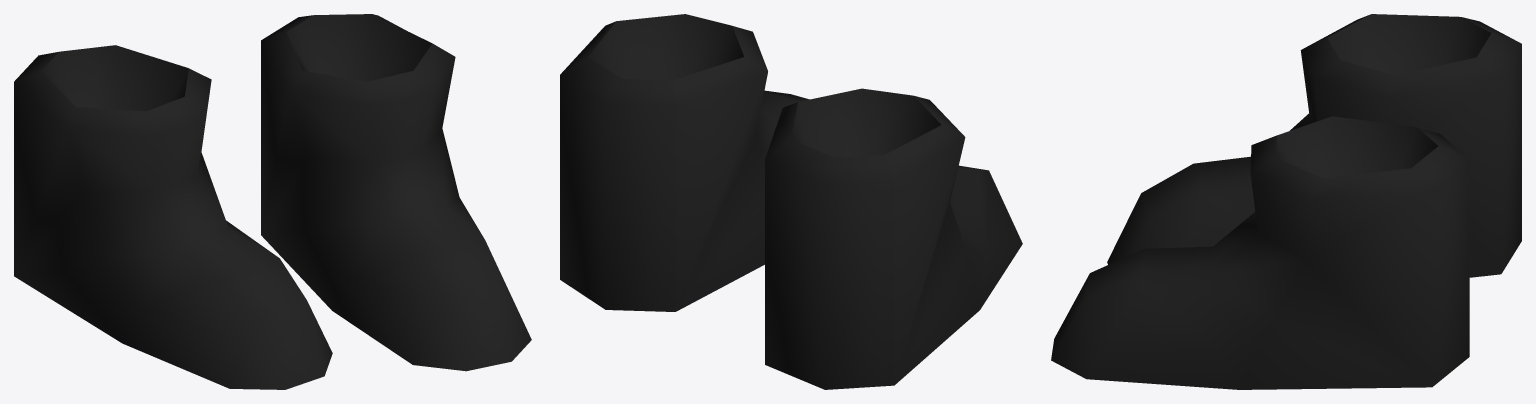
The model's file is clothes_040.glb.
The picture shows the model from 3 angles, left to right: view 1: azimuth 30°, elevation 25°; view 2: azimuth 150°, elevation 25°; view 3: azimuth 270°, elevation 25°; orthographic projection. The views are drawn at different scales.
Visible parts, largest first — view 1: clothes_040; view 2: clothes_040; view 3: clothes_040.
Part boxes in pixels (box(x1,y1,x2,y2)): clothes_040: box(14, 14, 531, 389); clothes_040: box(560, 14, 1022, 389); clothes_040: box(1051, 14, 1521, 389).
Size of the model in its own units: 0.2669 by 0.1462 by 0.2943.
Materials: 1 (1 with a texture image).
